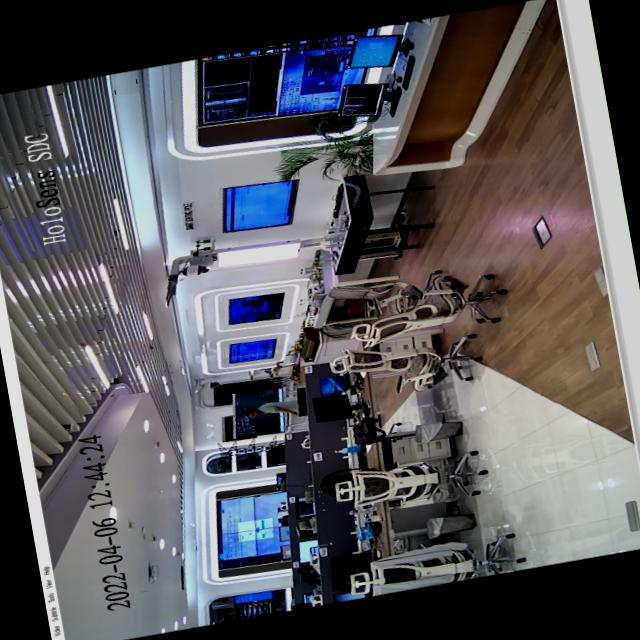long weapon: (236, 402, 270, 414)
